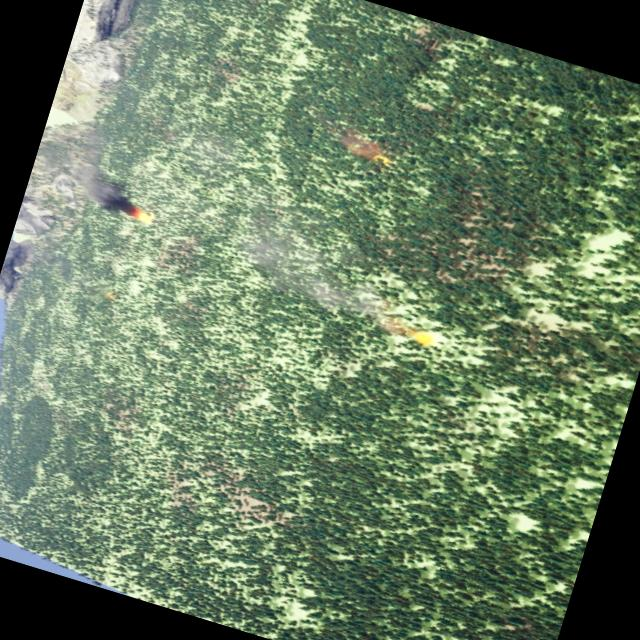fire: (409, 326, 430, 346), (128, 202, 148, 222), (369, 147, 389, 165)
smoke: (229, 214, 420, 337), (67, 152, 142, 215), (338, 130, 378, 160)
